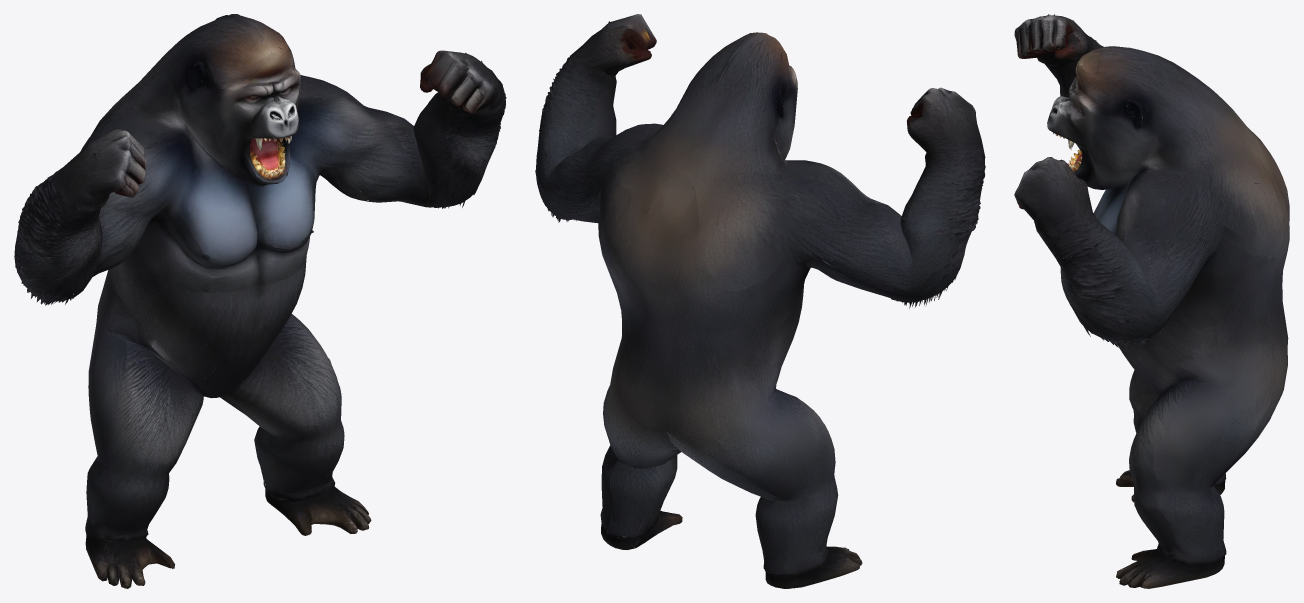
The model's file is KING_KONG.glb.
3 renders of one model, left to right at view 1: azimuth 30°, elevation 25°; view 2: azimuth 150°, elevation 25°; view 3: azimuth 270°, elevation 25°, orthographic. The views are drawn at different scales.
Parts seen in each view (by area): view 1: node_0; view 2: node_0; view 3: node_0.
Boxes of the visible parts, x1=… form: node_0: x1=14, y1=14, x2=506, y2=588; node_0: x1=535, y1=14, x2=985, y2=588; node_0: x1=1014, y1=14, x2=1289, y2=588.
Size of the model in its own units: 0.9423 by 1.04 by 0.5351.
1 material, 1 textured.
